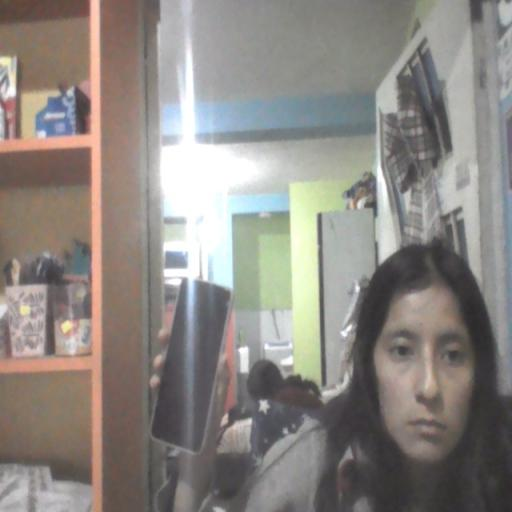phone: (145, 266, 237, 459)
